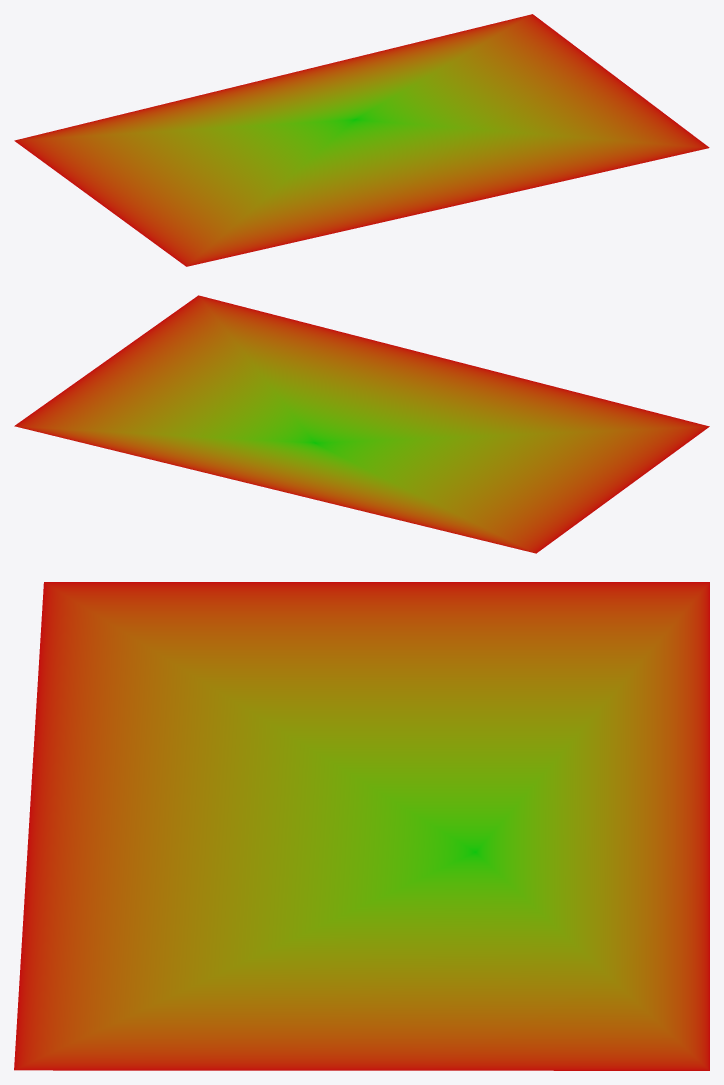
Rendered from Var8_LOD3.fbx.
The picture shows the model from 3 angles, top to bottom: view 1: azimuth 30°, elevation 25°; view 2: azimuth 150°, elevation 25°; view 3: azimuth 270°, elevation 25°; orthographic projection. The views are drawn at different scales.
Parts seen in each view (by area): view 1: _4045_Var8_LOD3; view 2: _4045_Var8_LOD3; view 3: _4045_Var8_LOD3.
Boxes of the visible parts, x1,y1,x2,y2 form: _4045_Var8_LOD3: (14, 14, 709, 266); _4045_Var8_LOD3: (14, 295, 709, 553); _4045_Var8_LOD3: (14, 582, 709, 1070).
Bounding box in the file's own units: 47.3 × 0.2672 × 28.46.
